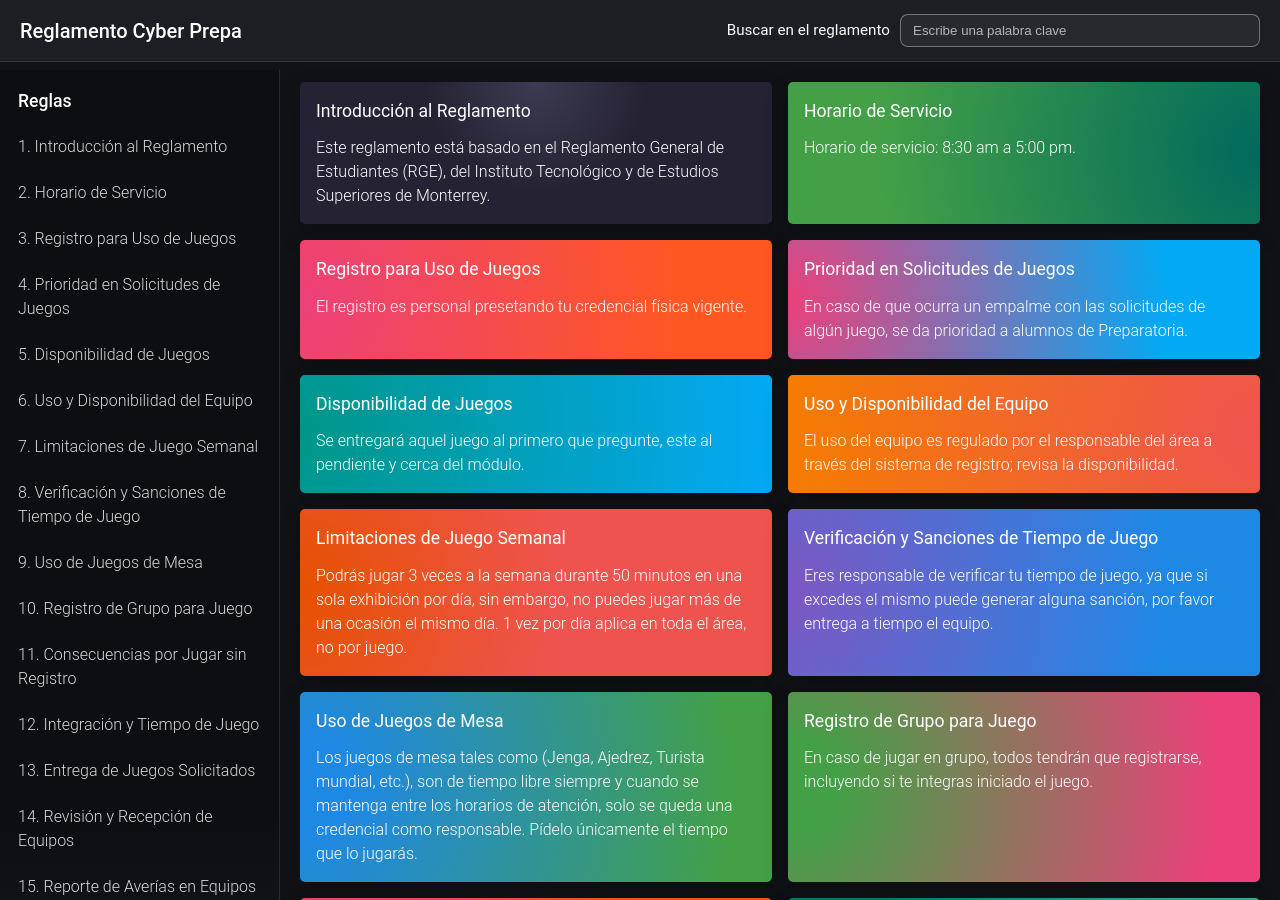
Test: Reglamento page › filters cards by search query
In the field labelled "Buscar en el reglamento": [1080, 30] box [900,14,1260,47], type "apuestas"
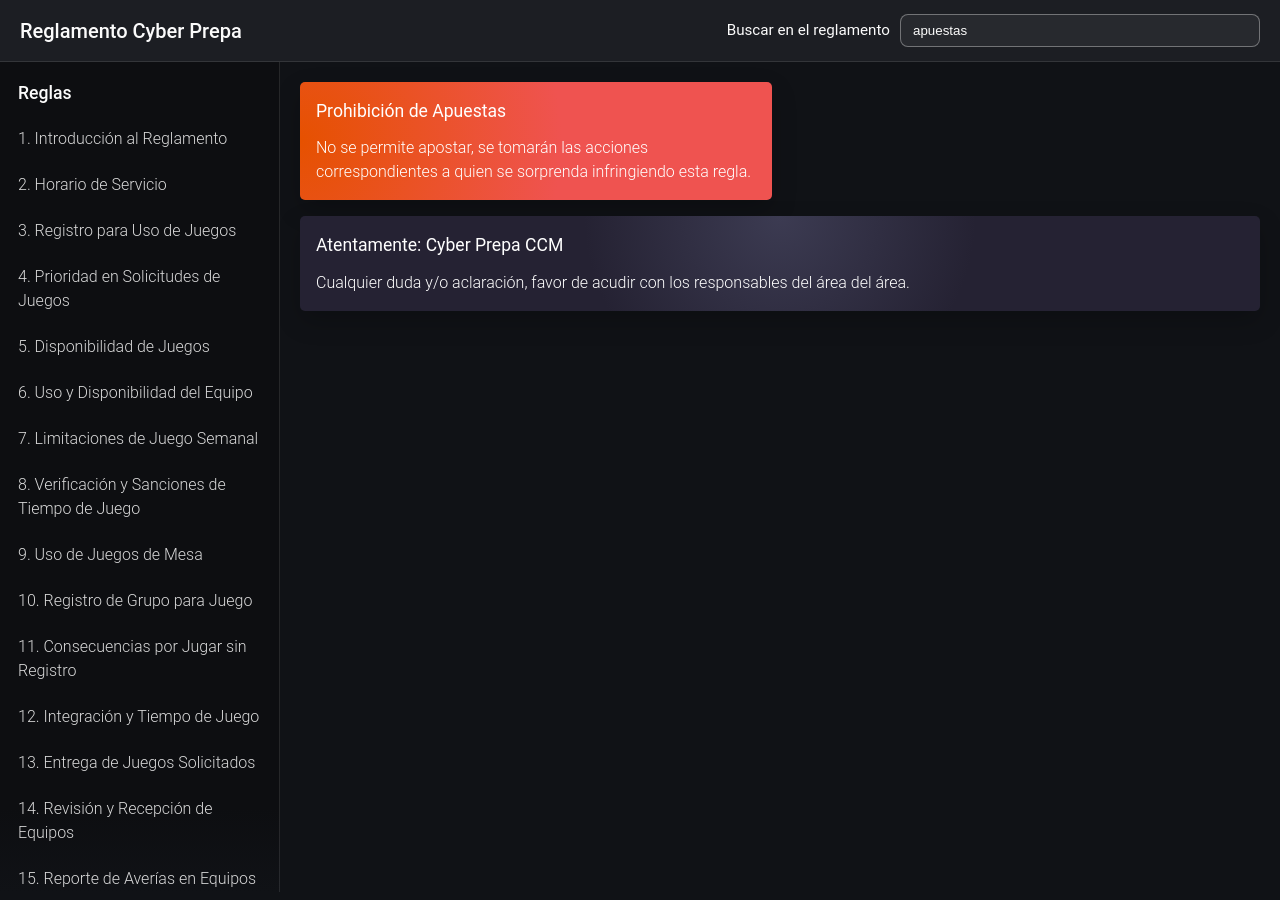
Expected: the heading "Prohibición de Apuestas" is shown, [316,101,506,121]
Expected: the text "Horario de servicio: 8:30 am a 5:00 pm." is gone
